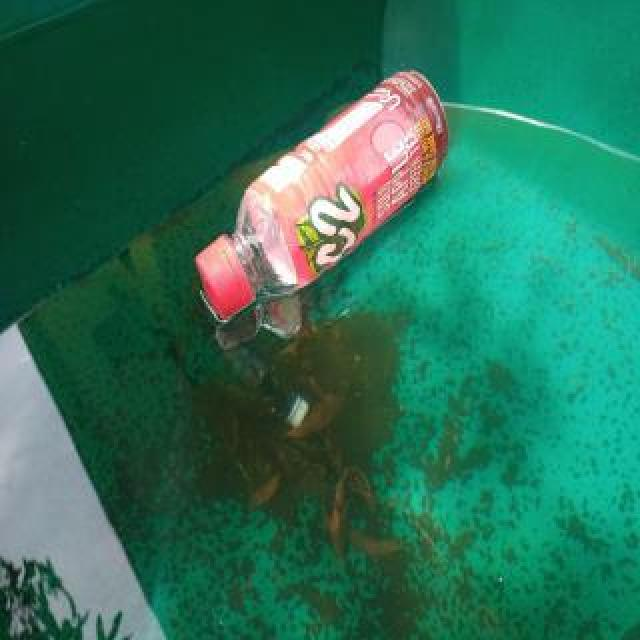bottle: (195, 64, 449, 324)
